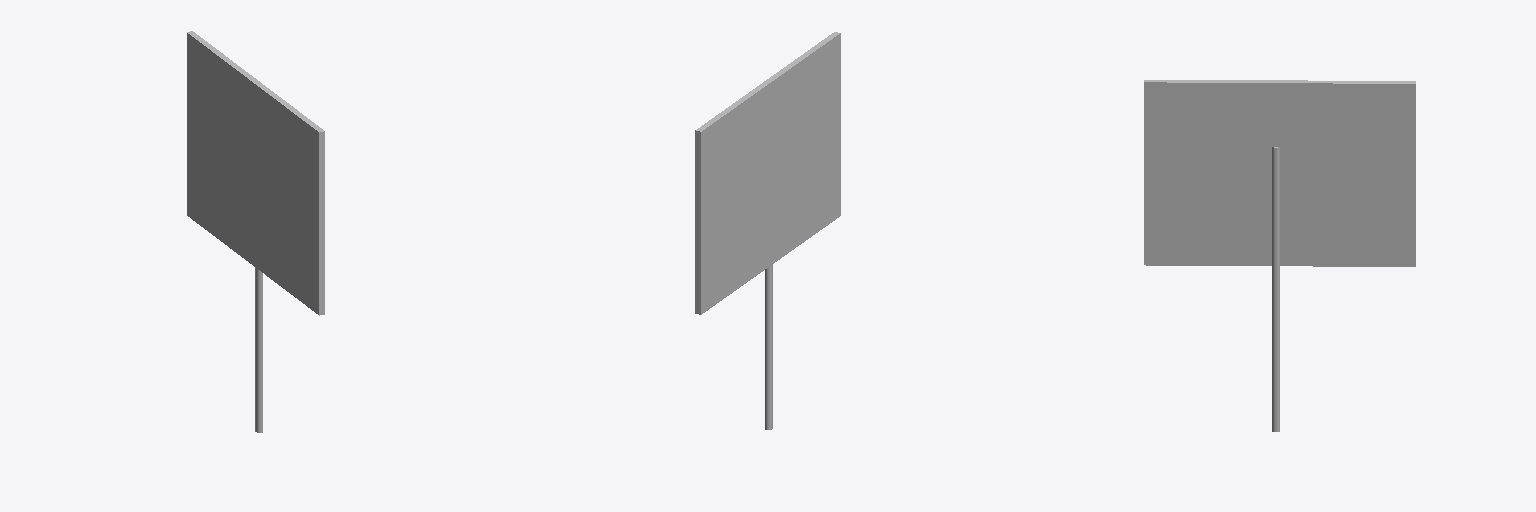
The model's file is board_1.obj.
The picture shows the model from 3 angles: view 1: azimuth 30°, elevation 25°; view 2: azimuth 150°, elevation 25°; view 3: azimuth 270°, elevation 25°; orthographic projection.
Parts seen in each view (by area): view 1: Cube.009_Cube.010, Cylinder.009; view 2: Cube.009_Cube.010, Cylinder.009; view 3: Cube.009_Cube.010, Cylinder.009.
Boxes of the visible parts, x1=… form: Cube.009_Cube.010: x1=187, y1=31, x2=324, y2=315; Cylinder.009: x1=255, y1=267, x2=262, y2=432; Cube.009_Cube.010: x1=695, y1=32, x2=840, y2=314; Cylinder.009: x1=765, y1=264, x2=772, y2=429; Cube.009_Cube.010: x1=1144, y1=80, x2=1415, y2=266; Cylinder.009: x1=1272, y1=147, x2=1279, y2=431.
Bounding box in the file's own units: 0.0106 × 0.3848 × 0.2723.